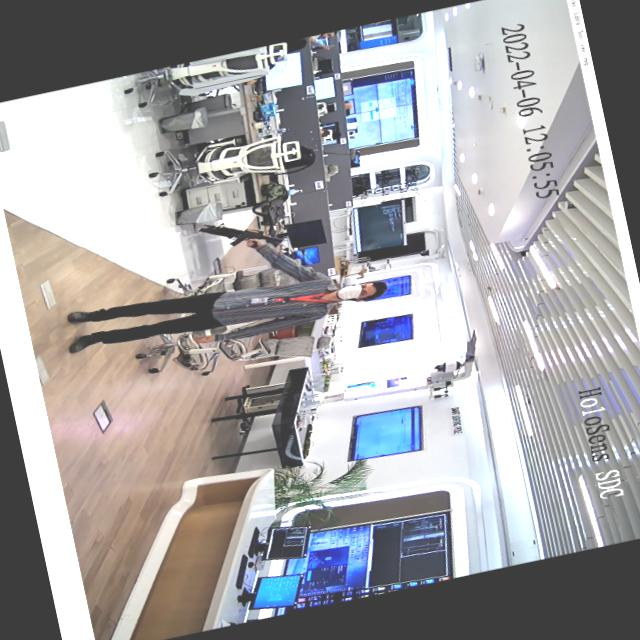long weapon: (178, 203, 290, 272)
